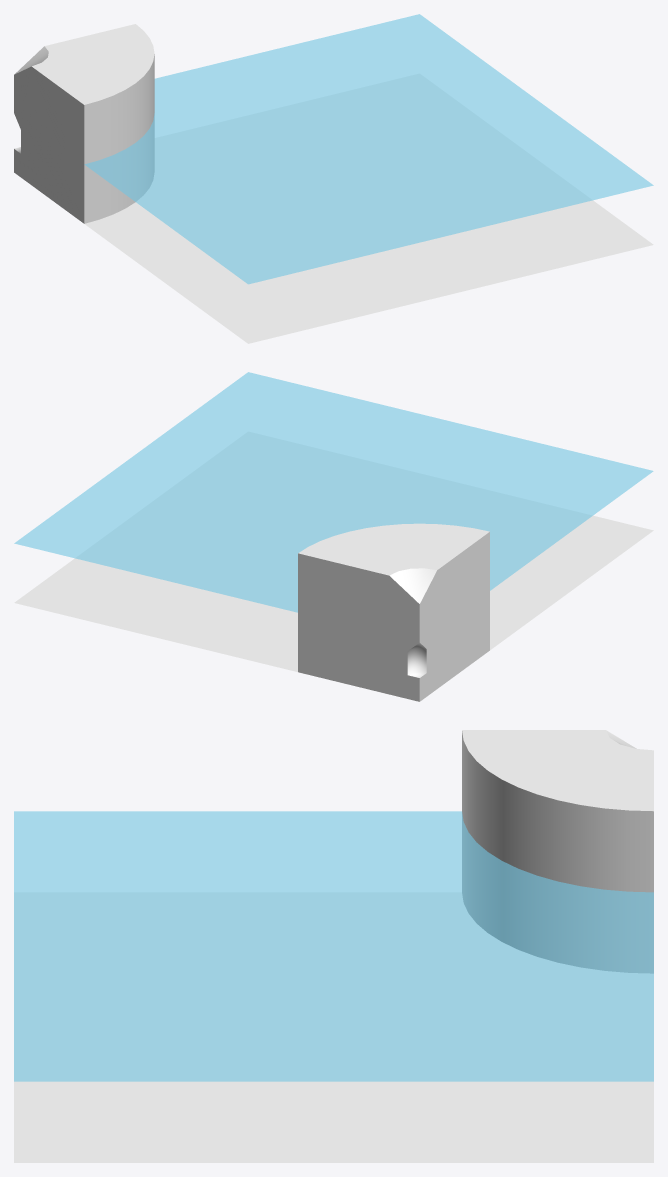
The model's file is fountain-corner-inner.glb.
3 renders of one model, top to bottom at view 1: azimuth 30°, elevation 25°; view 2: azimuth 150°, elevation 25°; view 3: azimuth 270°, elevation 25°, orthographic. The views are drawn at different scales.
Parts seen in each view (by area): view 1: fountain-corner-inner, (%ignore); view 2: fountain-corner-inner, (%ignore); view 3: fountain-corner-inner, (%ignore).
Part boxes in pixels (bbox=[...]): fountain-corner-inner: bbox=[14, 24, 653, 343]; (%ignore): bbox=[84, 14, 653, 284]; fountain-corner-inner: bbox=[14, 432, 653, 701]; (%ignore): bbox=[14, 372, 653, 612]; fountain-corner-inner: bbox=[14, 730, 653, 1162]; (%ignore): bbox=[14, 811, 653, 1081].
Size of the model in its own units: 1 by 0.28 by 1.
